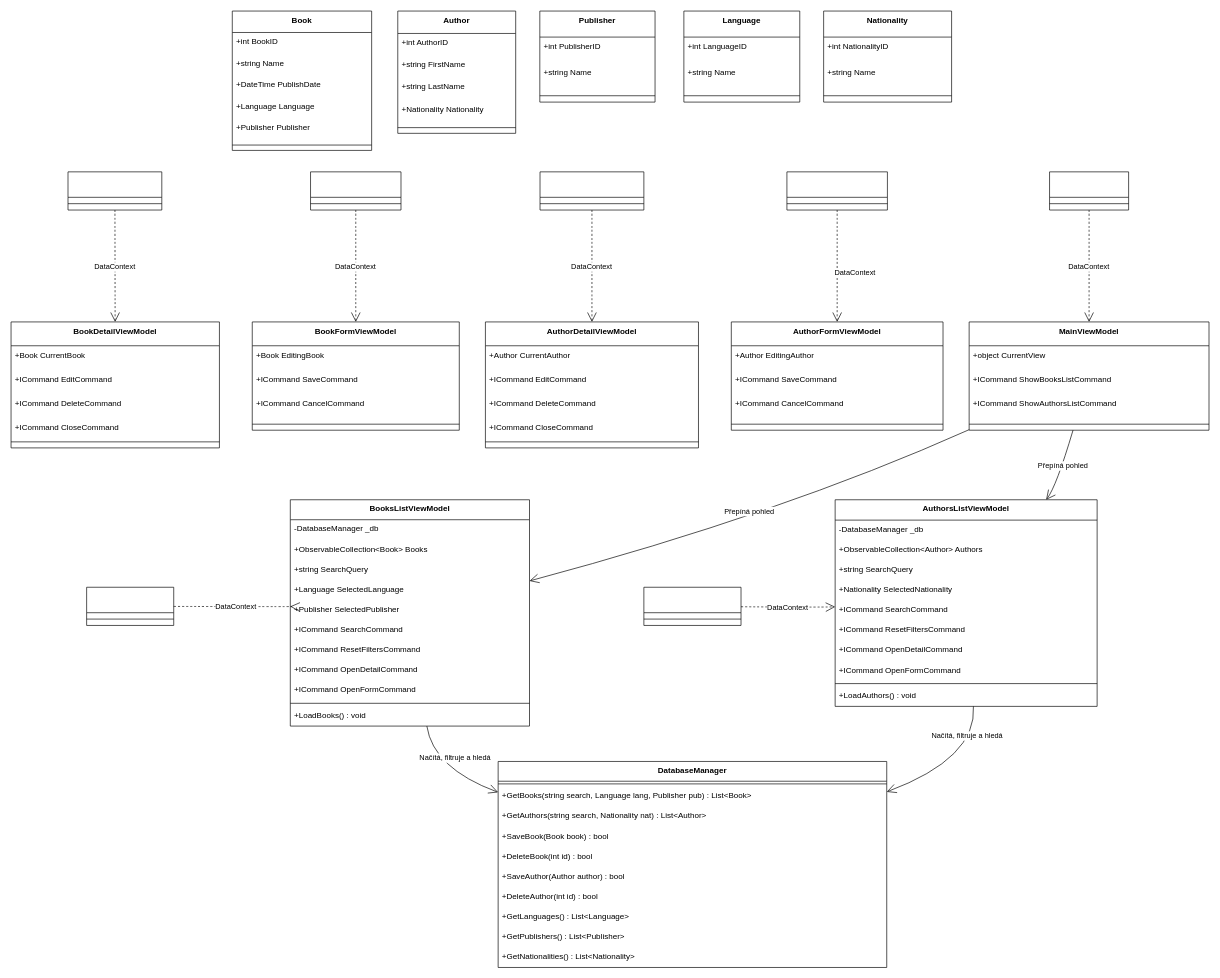
The diagram is 1220 pixels wide and 978 high, and some of its shapes have lost their labels. The centre of each missing label's shape, as x and y in pixels:
"AuthorDetailView" goes at [591,190].
"AuthorFormView" goes at [836,190].
"AuthorsListView" goes at [692,606].
"BookDetailView" goes at [114,190].
"BookFormView" goes at [355,190].
"BooksListView" goes at [130,606].
"MainWindow" goes at [1089,190].
